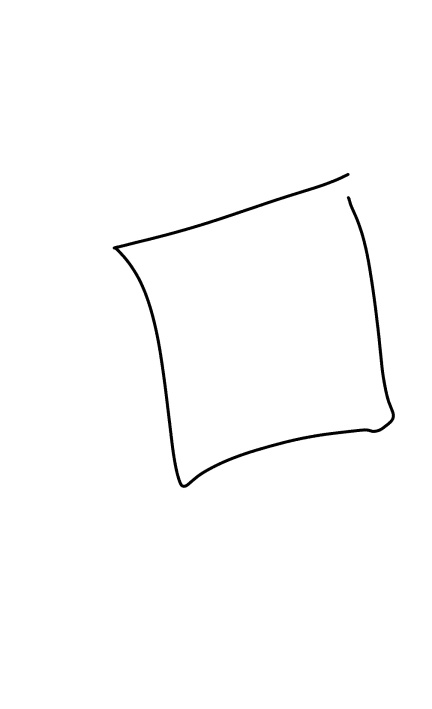Square: (109, 170, 403, 488)
